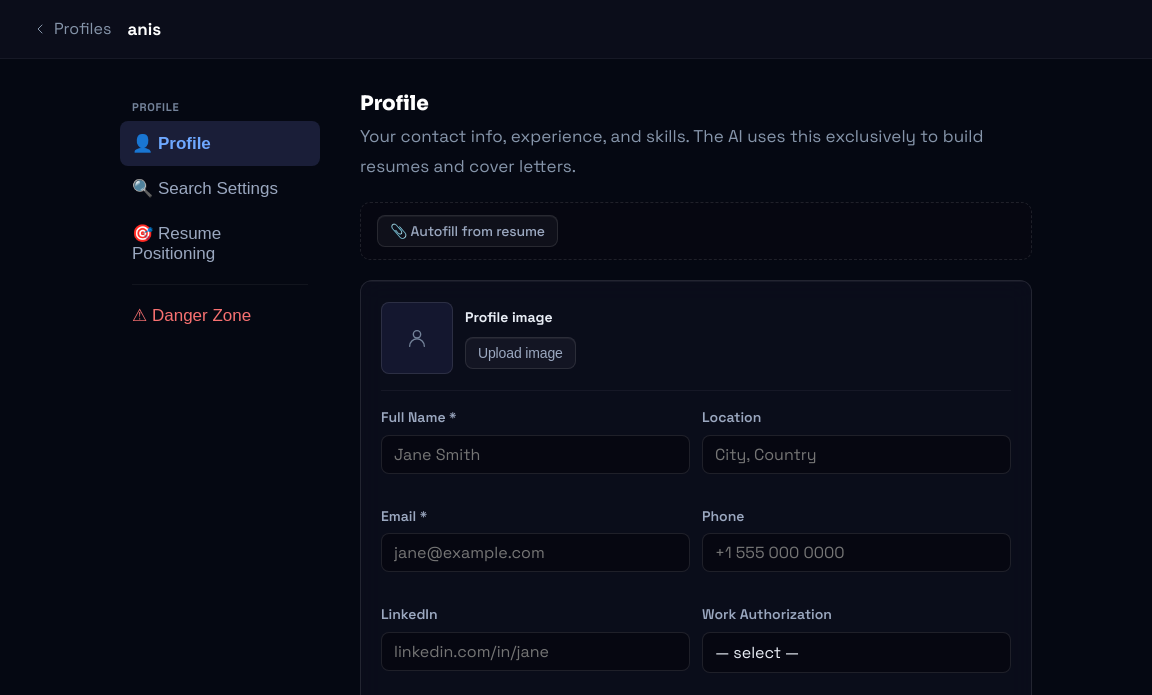
Test case: Resume Positioning › renders the three stance options and the non-negotiables note
Step 1. Click the button "🎯 Resume Positioning" → x=220, y=243, box x1=120 y1=211 x2=320 y2=276
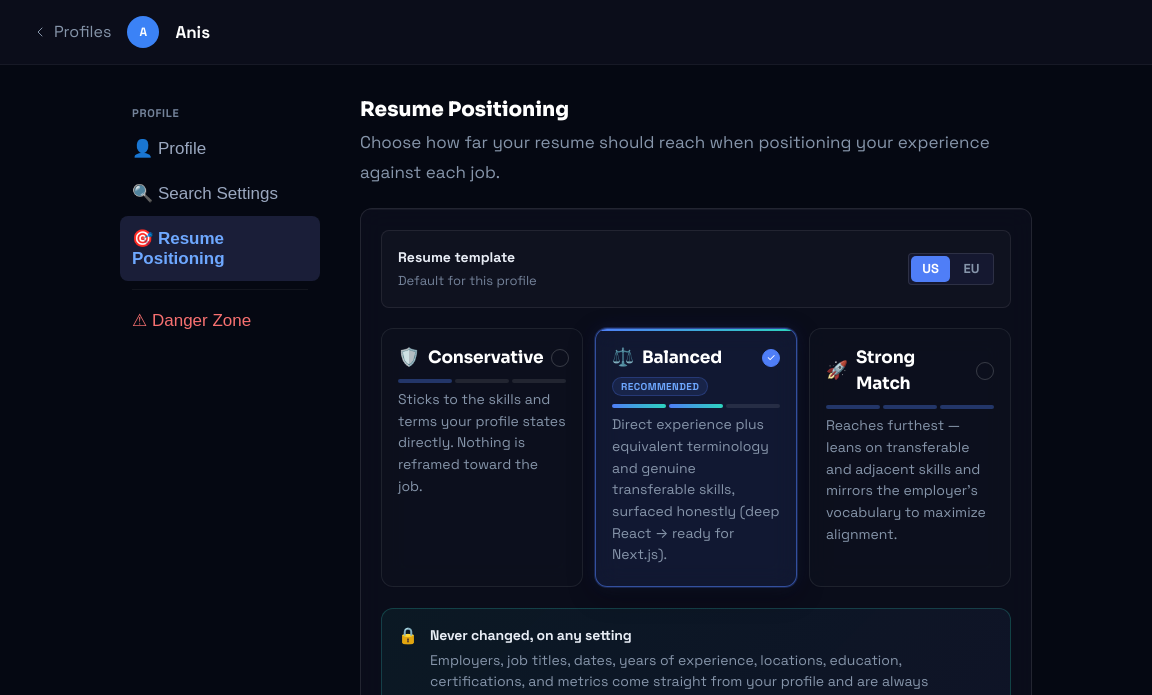
Result: the text "Conservative" is shown at x1=428 y1=345 x2=543 y2=372
Result: the text "Balanced" is shown at x1=642 y1=345 x2=722 y2=372
Result: the text "Strong Match" is shown at x1=856 y1=347 x2=915 y2=395
